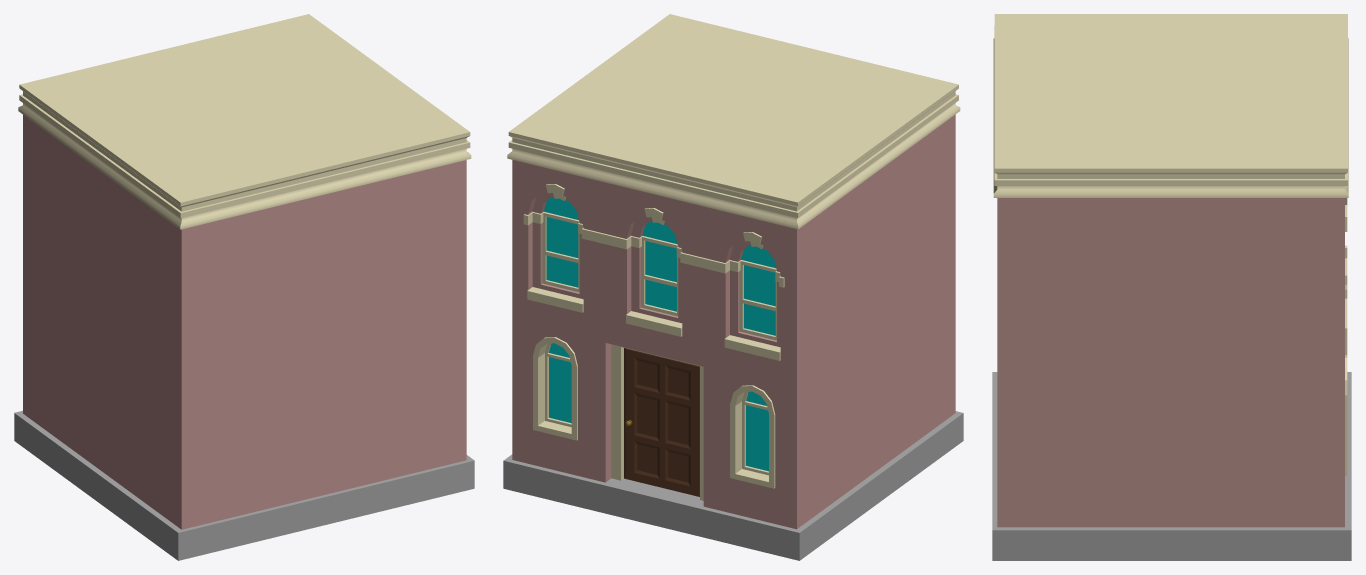
The model's file is cry_small house_01_dylan.fbx.
3 views of the same model, side by side, from view 1: azimuth 30°, elevation 25°; view 2: azimuth 150°, elevation 25°; view 3: azimuth 270°, elevation 25° (orthographic). The views are drawn at different scales.
Parts seen in each view (by area): view 1: pCube28; view 2: pCube28; view 3: pCube28.
Part boxes in pixels (left/top/right/bottom): pCube28: left=14, top=14, right=474, bottom=560; pCube28: left=503, top=14, right=963, bottom=560; pCube28: left=992, top=14, right=1351, bottom=560.
Bounding box in the file's own units: 582 × 669 × 558.
